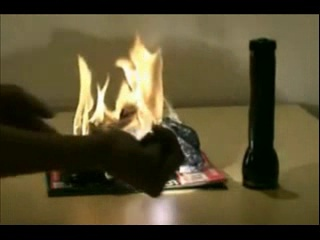fire: (116, 26, 168, 141), (72, 54, 116, 138)
